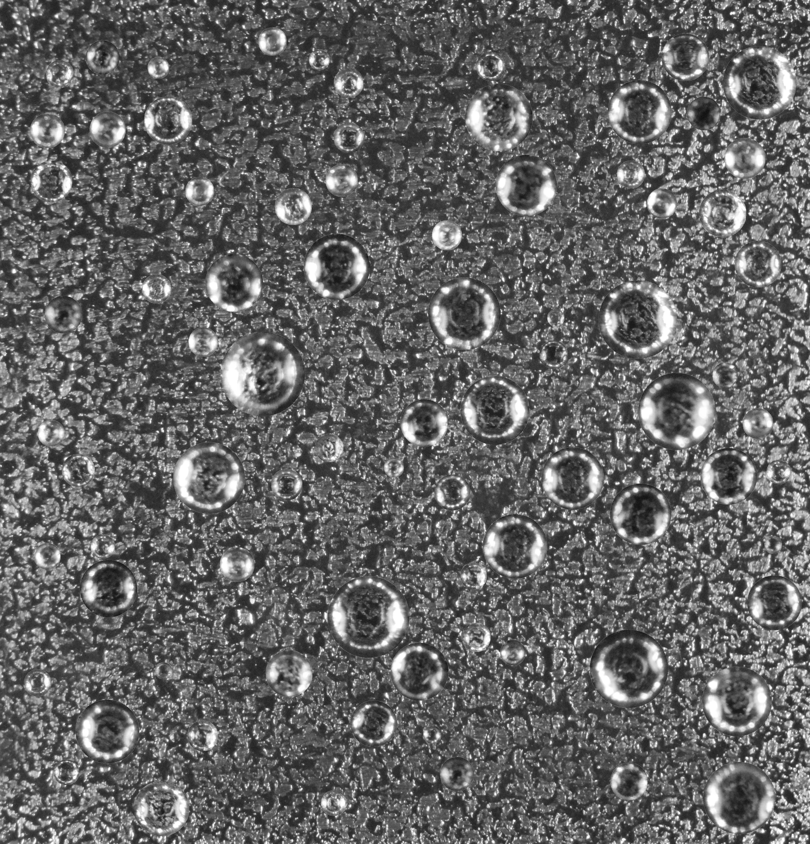Bubble: (220, 331, 304, 416), (327, 576, 409, 657), (589, 629, 668, 708), (598, 280, 677, 358), (638, 372, 715, 449), (723, 46, 796, 119), (428, 277, 500, 349), (703, 762, 775, 834), (173, 442, 244, 513), (702, 666, 771, 736), (460, 376, 529, 444), (465, 83, 532, 151), (303, 233, 369, 299), (483, 514, 547, 578), (75, 699, 139, 763), (607, 80, 671, 143), (541, 447, 603, 509), (495, 154, 556, 215), (610, 483, 671, 544), (390, 642, 448, 700), (79, 560, 137, 617), (205, 254, 262, 311), (700, 448, 757, 504), (134, 781, 189, 836), (747, 575, 801, 630), (144, 96, 192, 144), (661, 33, 709, 80), (699, 189, 746, 236), (400, 399, 447, 446), (734, 240, 781, 287), (265, 650, 312, 696), (350, 700, 396, 746), (30, 160, 72, 202), (724, 137, 765, 178), (44, 295, 82, 333), (610, 762, 647, 800), (274, 188, 311, 224), (89, 111, 125, 147), (434, 474, 470, 510), (219, 547, 254, 581), (30, 113, 64, 147), (440, 757, 474, 791), (85, 40, 119, 74), (687, 96, 720, 130), (61, 454, 94, 486), (325, 164, 357, 196), (271, 469, 302, 500), (333, 122, 364, 152), (742, 408, 773, 438), (187, 720, 217, 751), (647, 188, 677, 218), (333, 68, 363, 97), (432, 220, 461, 250), (142, 274, 171, 303), (185, 176, 214, 205), (461, 622, 490, 651), (188, 327, 217, 356), (476, 51, 505, 80), (315, 433, 343, 462), (539, 340, 567, 368), (258, 27, 286, 55), (617, 160, 644, 188), (45, 60, 73, 87), (24, 669, 51, 696), (460, 562, 486, 589), (33, 543, 60, 569), (37, 420, 64, 446), (53, 759, 79, 785), (321, 790, 346, 815), (500, 640, 525, 665), (712, 362, 737, 387), (766, 459, 790, 484), (90, 534, 114, 558), (147, 57, 169, 78), (309, 49, 329, 69), (384, 457, 403, 477), (423, 725, 441, 743), (764, 536, 782, 553), (155, 662, 172, 679), (547, 309, 564, 326)
